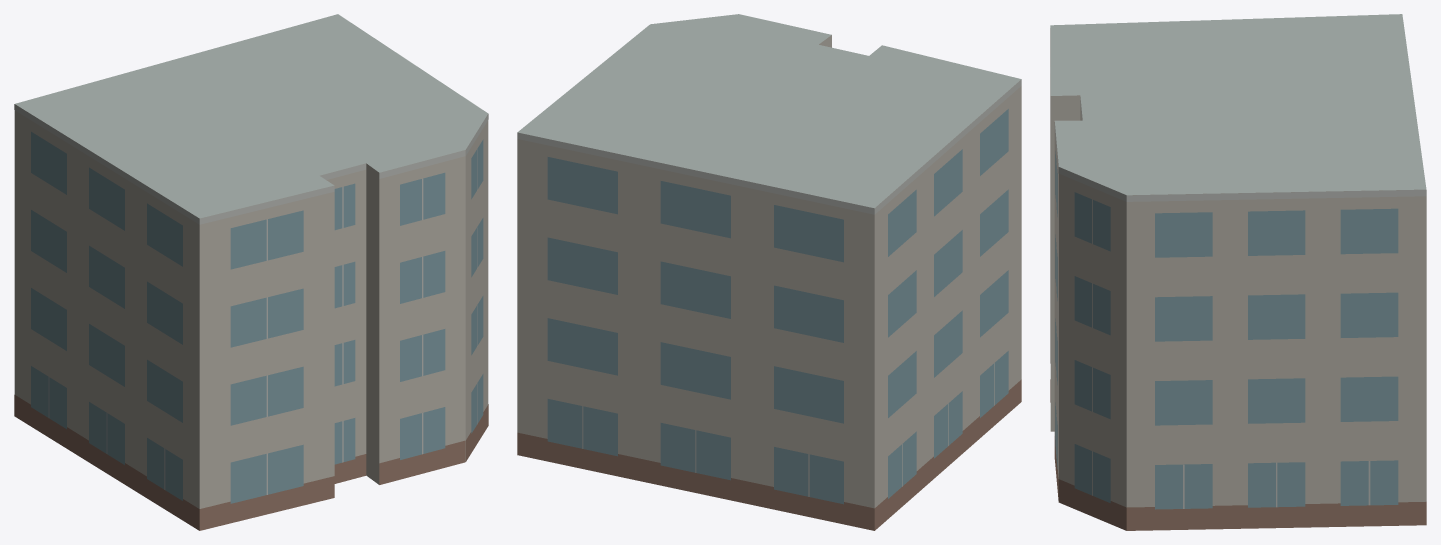
Rendered from survey-upis-32727680.glb.
3 renders of one model, left to right at view 1: azimuth 30°, elevation 25°; view 2: azimuth 150°, elevation 25°; view 3: azimuth 270°, elevation 25°, orthographic. The views are drawn at different scales.
Parts seen in each view (by area): view 1: survey-upis-32727680.tmp; view 2: survey-upis-32727680.tmp; view 3: survey-upis-32727680.tmp.
Part boxes in pixels (bbox=[...]): survey-upis-32727680.tmp: bbox=[14, 14, 488, 530]; survey-upis-32727680.tmp: bbox=[517, 14, 1021, 530]; survey-upis-32727680.tmp: bbox=[1050, 14, 1426, 530].
Bounding box in the file's own units: 14.14 × 12.2 × 12.4.
